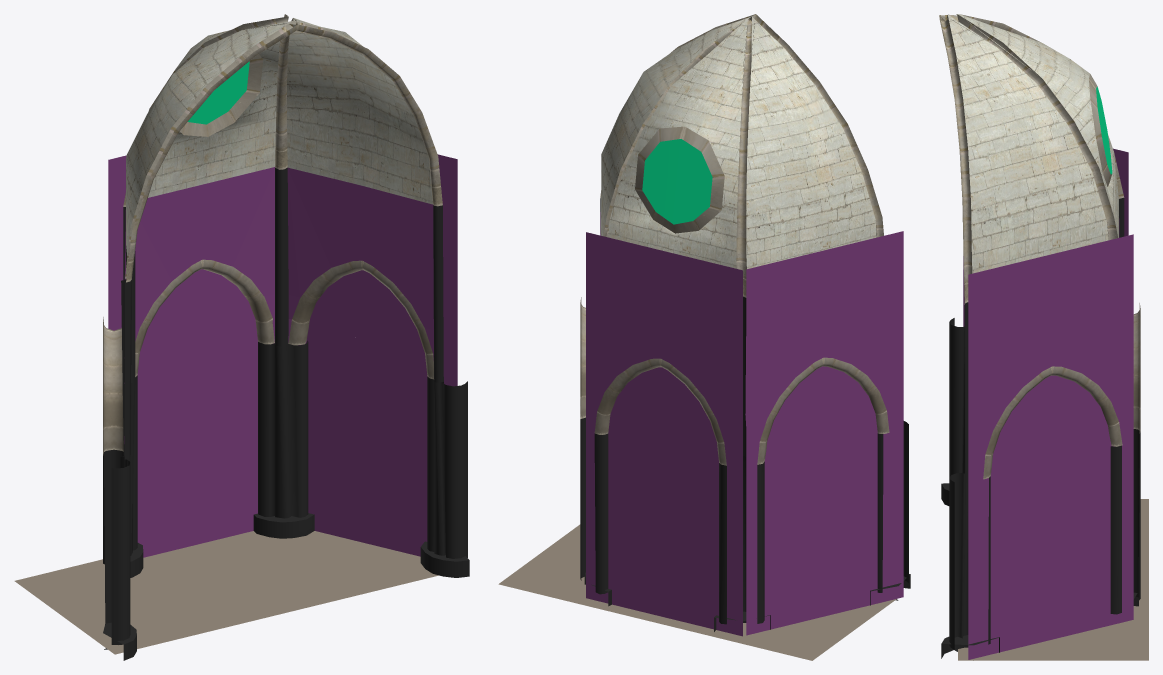
Rendered from Cath_Vault_small1.FBX.
3 renders of one model, left to right at view 1: azimuth 30°, elevation 25°; view 2: azimuth 150°, elevation 25°; view 3: azimuth 270°, elevation 25°, orthographic. The views are drawn at different scales.
Visible parts, largest first — view 1: Vault_smallwall06, Vault_smallwall03, Vault_smallroof00, Vault_smallwall00, Vault_small (×4), Vault_smallfloor00, Vault_smallwall01, Vault_smallfloor01, Vault_smallcolumn01, Vault_smallwall07, Vault_smallwall02, Vault_smallcolumn00 (+8 smaller); view 2: Vault_smallwall05, Vault_smallwall02, Vault_smallwall04, Vault_smallroof00, Vault_smallwall03, Vault_smallroof01, Vault_small, Vault_smallwindow, Vault_smallfloor00, Vault_smallfloor01, Vault_smallcolumn01, Vault_smallcolumn02 (+5 smaller); view 3: Vault_smallwall07, Vault_smallwall06, Vault_smallroof00, Vault_small (×2), Vault_smallroof01, Vault_smallfloor01, Vault_smallcolumn00, Vault_smallcolumn01, Vault_smallcolumn03, Vault_smallarch00, Vault_smallarch01, Vault_smallwall05 (+3 smaller).
Boxes of the visible parts, left/top/right/bottom form: Vault_smallwall06: left=298, top=326, right=457, bottom=556; Vault_smallwall03: left=137, top=327, right=274, bottom=557; Vault_smallroof00: left=126, top=18, right=432, bottom=255; Vault_smallwall00: left=124, top=167, right=433, bottom=443; Vault_small (×4): left=121, top=14, right=443, bottom=459; Vault_smallfloor00: left=14, top=545, right=288, bottom=654; Vault_smallwall01: left=135, top=167, right=274, bottom=341; Vault_smallfloor01: left=197, top=531, right=438, bottom=611; Vault_smallcolumn01: left=253, top=340, right=314, bottom=538; Vault_smallwall07: left=309, top=154, right=457, bottom=362; Vault_smallwall02: left=108, top=155, right=256, bottom=355; Vault_smallcolumn00: left=420, top=376, right=469, bottom=577; Vault_smallwall05: left=746, top=231, right=903, bottom=452; Vault_smallwall02: left=586, top=232, right=742, bottom=453; Vault_smallwall04: left=746, top=414, right=903, bottom=635; Vault_smallroof00: left=601, top=17, right=876, bottom=268; Vault_smallwall03: left=586, top=415, right=742, bottom=636; Vault_smallroof01: left=608, top=19, right=747, bottom=268; Vault_small: left=600, top=14, right=883, bottom=297; Vault_smallwindow: left=642, top=139, right=712, bottom=224; Vault_smallfloor00: left=656, top=599, right=896, bottom=660; Vault_smallfloor01: left=498, top=524, right=662, bottom=622; Vault_smallcolumn01: left=580, top=417, right=611, bottom=606; Vault_smallcolumn02: left=714, top=456, right=770, bottom=631; Vault_smallwall07: left=968, top=234, right=1133, bottom=467; Vault_smallwall06: left=968, top=427, right=1133, bottom=659; Vault_smallroof00: left=948, top=14, right=1108, bottom=273; Vault_small (×2): left=939, top=14, right=1124, bottom=472; Vault_smallroof01: left=957, top=14, right=1118, bottom=237; Vault_smallfloor01: left=958, top=579, right=1148, bottom=660; Vault_smallcolumn00: left=941, top=470, right=999, bottom=658; Vault_smallcolumn01: left=1110, top=429, right=1140, bottom=614; Vault_smallcolumn03: left=941, top=318, right=964, bottom=505; Vault_smallarch00: left=983, top=366, right=1122, bottom=479; Vault_smallarch01: left=1133, top=303, right=1140, bottom=433; Vault_smallwall05: left=963, top=148, right=1128, bottom=304.
Bounding box in the file's own units: 804 × 432 × 1286.
